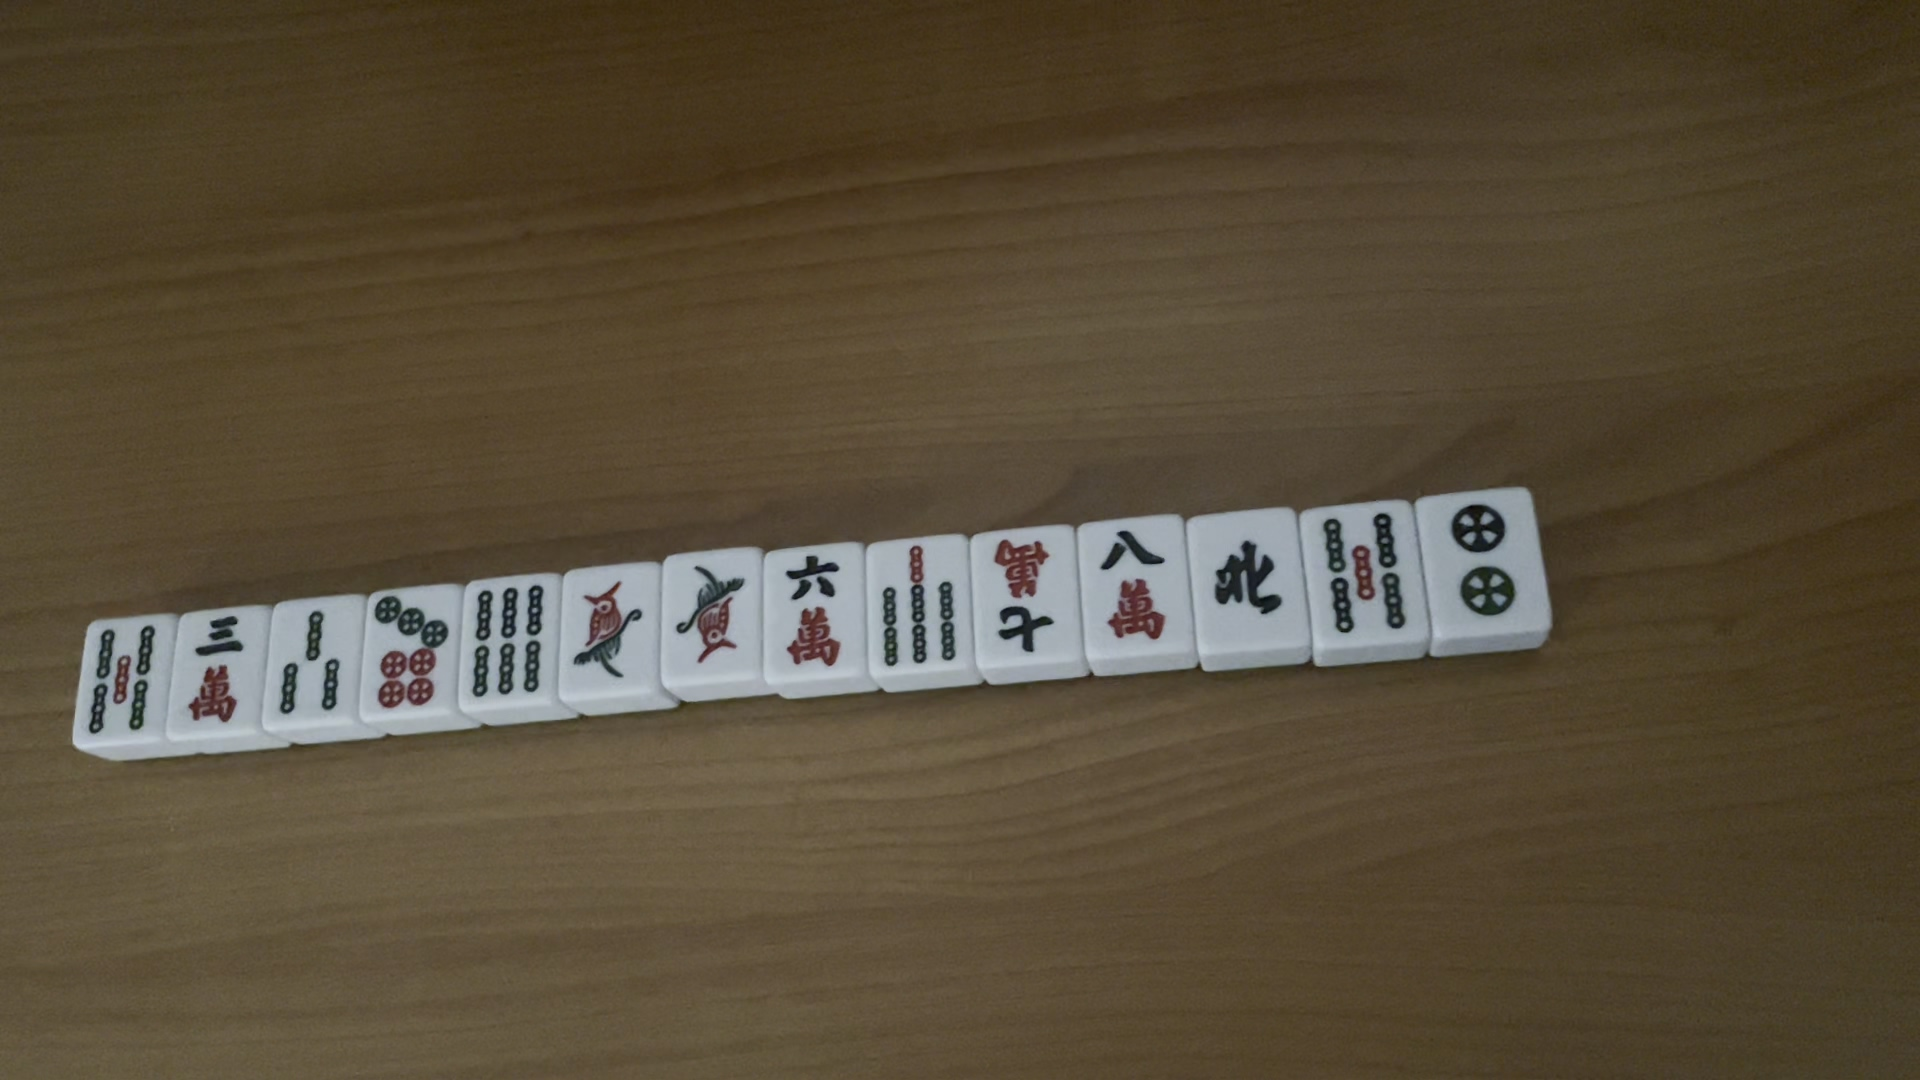b-1: (665, 563, 749, 663), (564, 582, 647, 682)
b-3: (273, 605, 347, 715)
b-5: (1317, 506, 1416, 644), (80, 624, 167, 735)
b-6: (465, 585, 549, 702)
b-7: (874, 541, 968, 667)
c-3: (178, 607, 249, 724)
c-6: (773, 553, 849, 667)
c-7: (981, 535, 1069, 659)
c-8: (1102, 530, 1170, 637)
d-2: (1444, 495, 1520, 622)
d-7: (367, 595, 447, 705)
honors-north: (1207, 530, 1291, 626)
